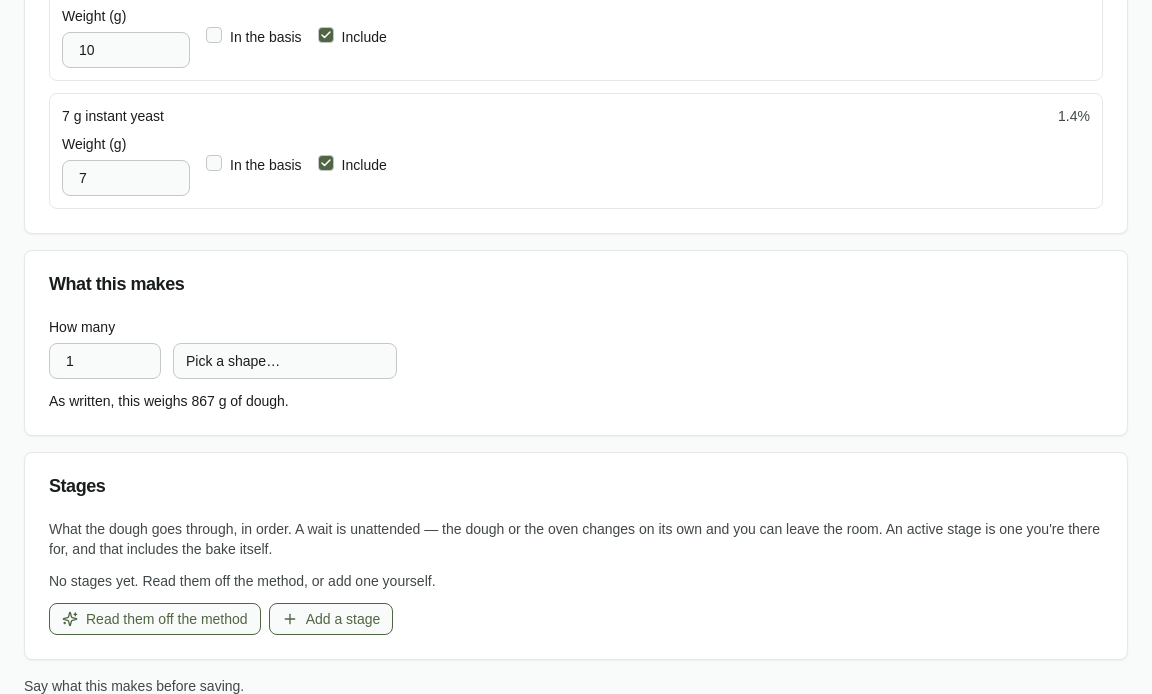
Test case: FormulaPage — what counts as a count › takes an empty box () as null
(page scrolled)
Click the button with test id "formula-shape-select": (285, 361) left=173, top=343, right=397, bottom=379
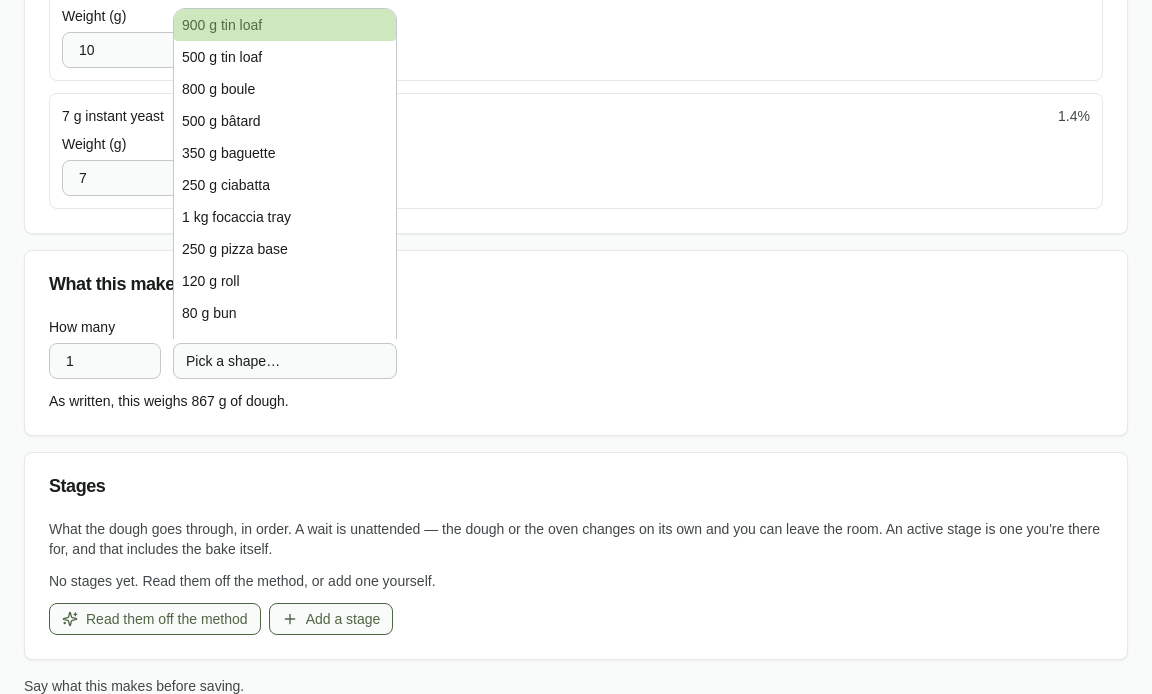
Now the option "900 g tin loaf" is shown
Click the option "900 g tin loaf": (285, 25) left=174, top=9, right=396, bottom=41
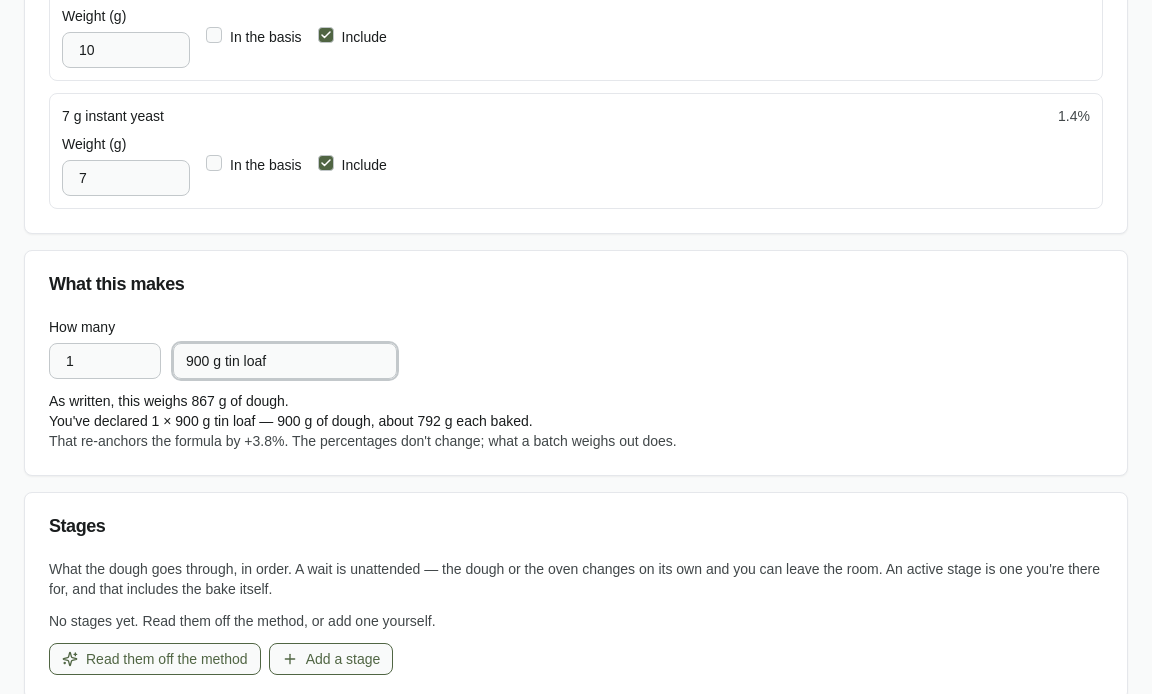
Clear the field with test id "formula-count": (156, 361) left=66, top=351, right=247, bottom=371
(page scrolled)
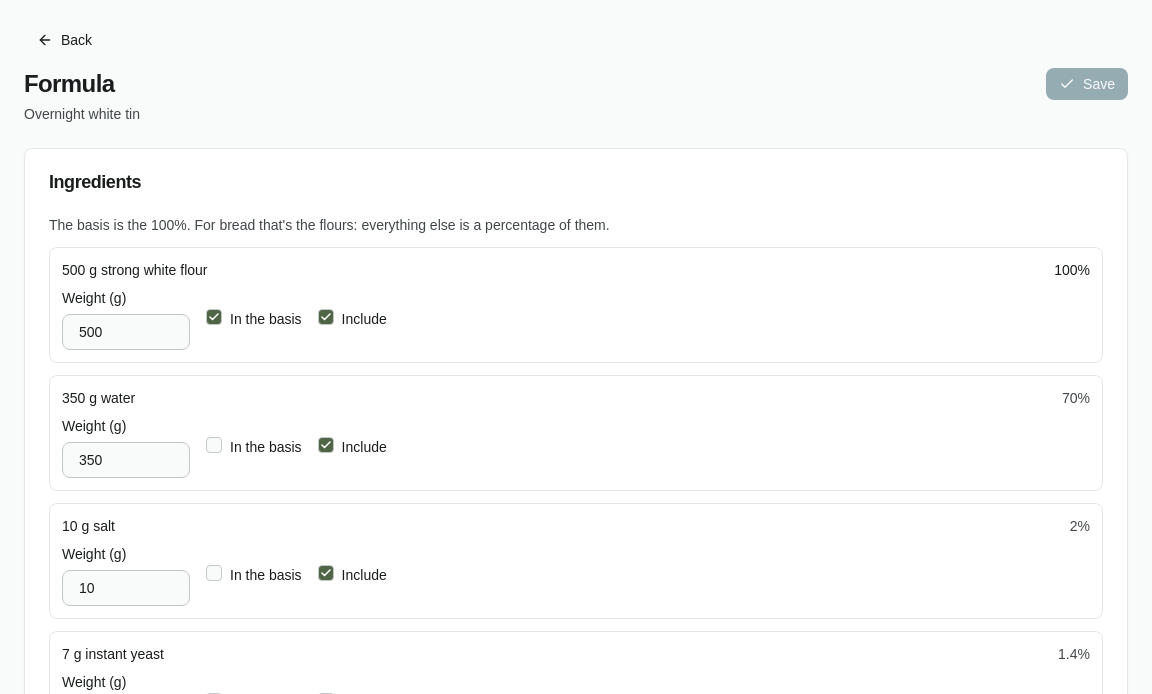
Now the button with test id "formula-save-button" is disabled, box left=1046, top=68, right=1128, bottom=100
